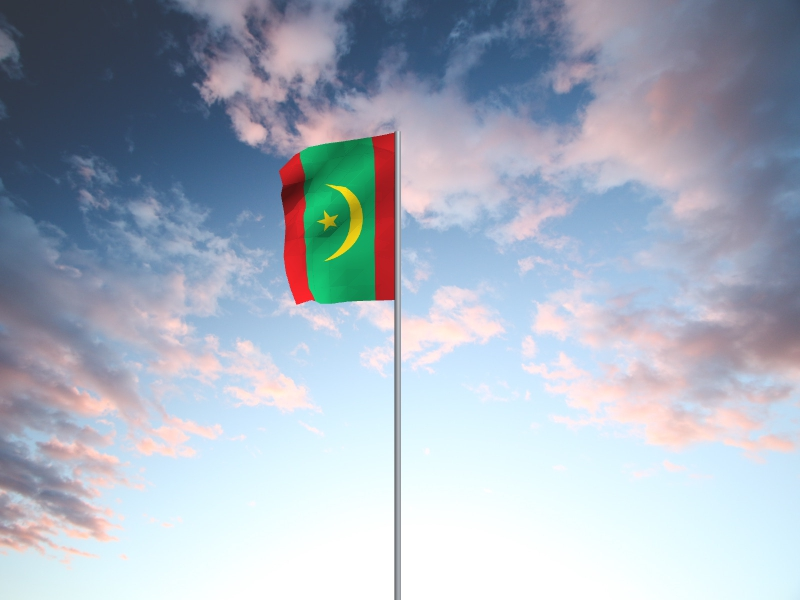mr: (278, 134, 394, 306)
